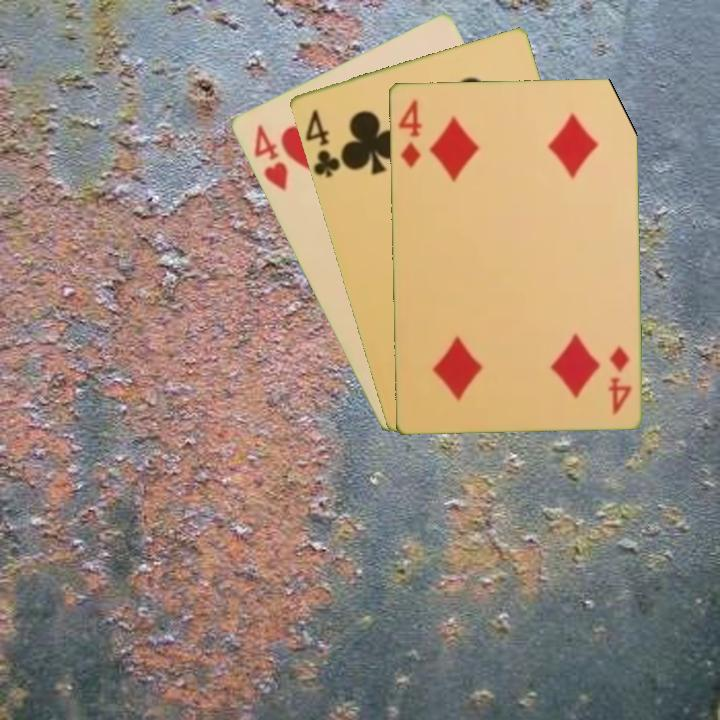4c: (301, 105, 343, 181)
4d: (395, 95, 425, 170), (604, 342, 634, 417)
4h: (249, 121, 291, 194)
